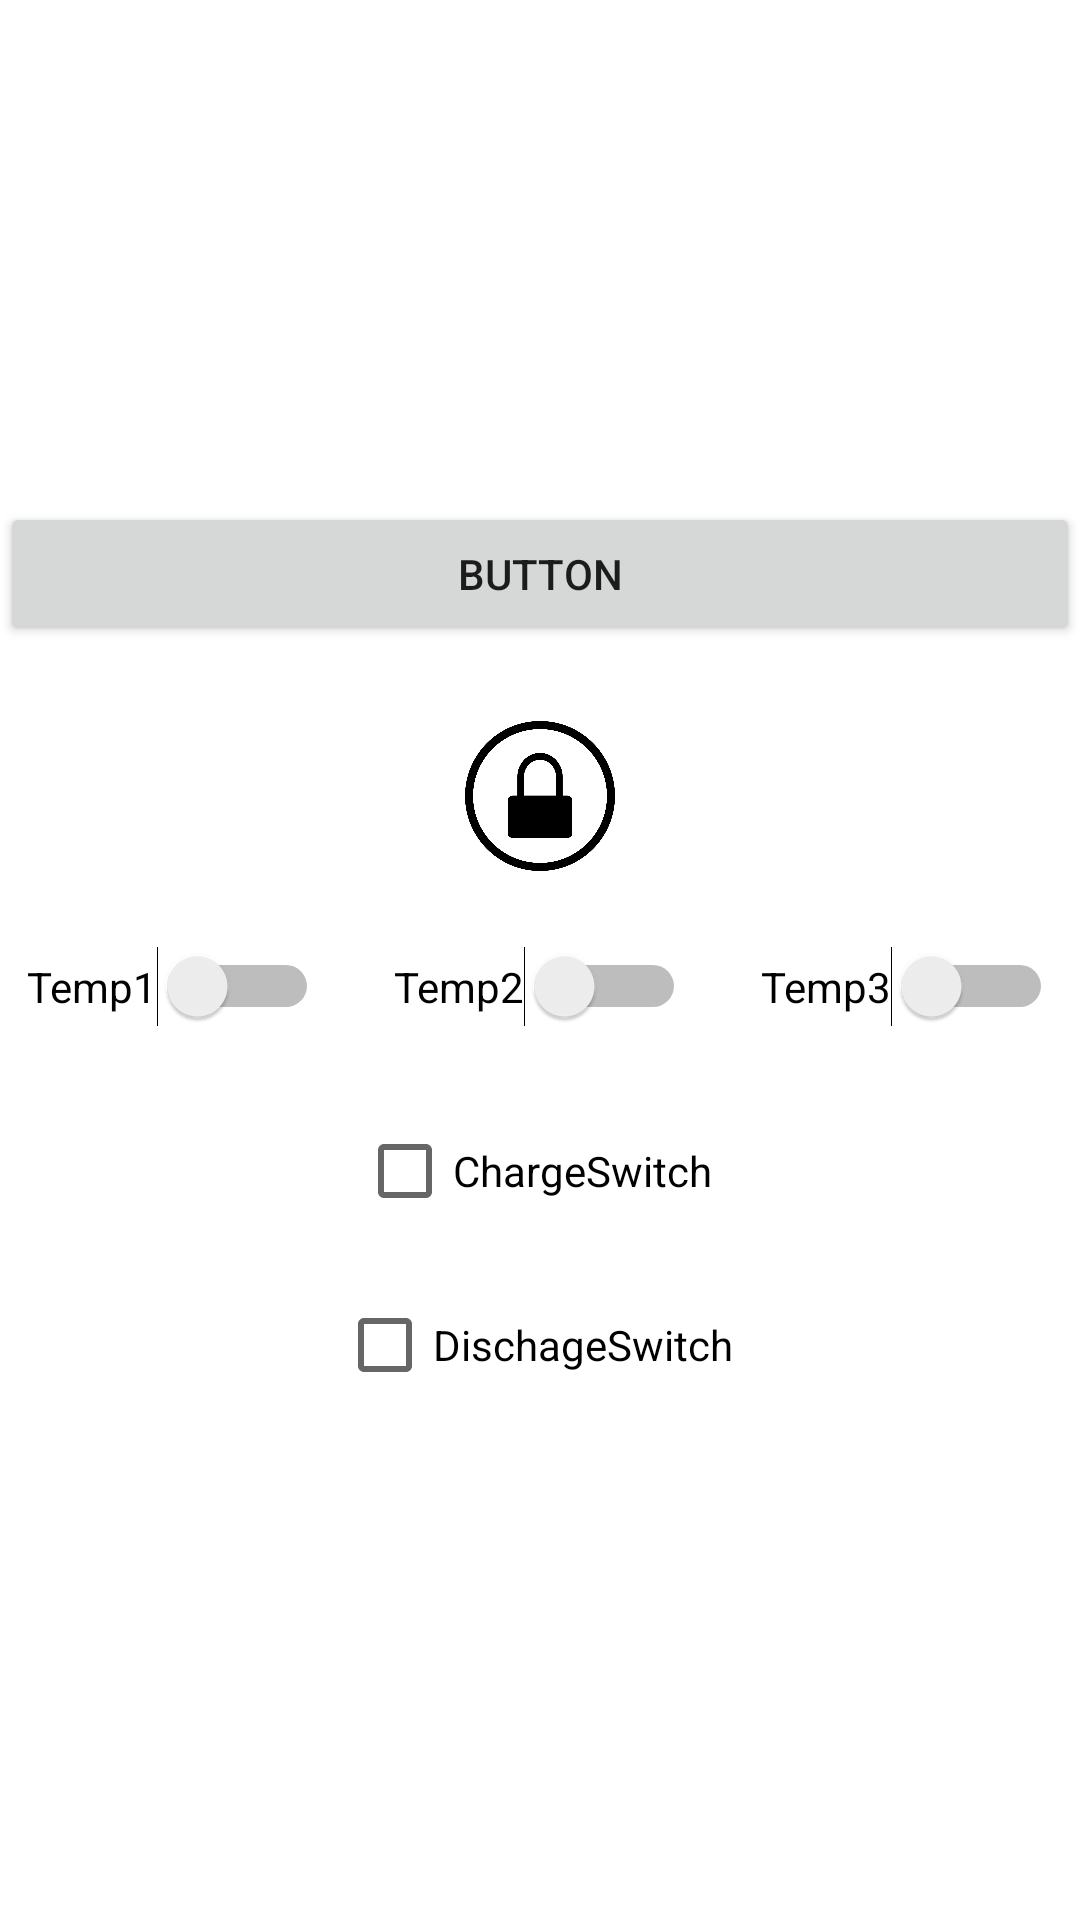

Screen size 1080 × 1920. Icon name, then its center in pixels as point (x, y):
lock: point (540, 796)
